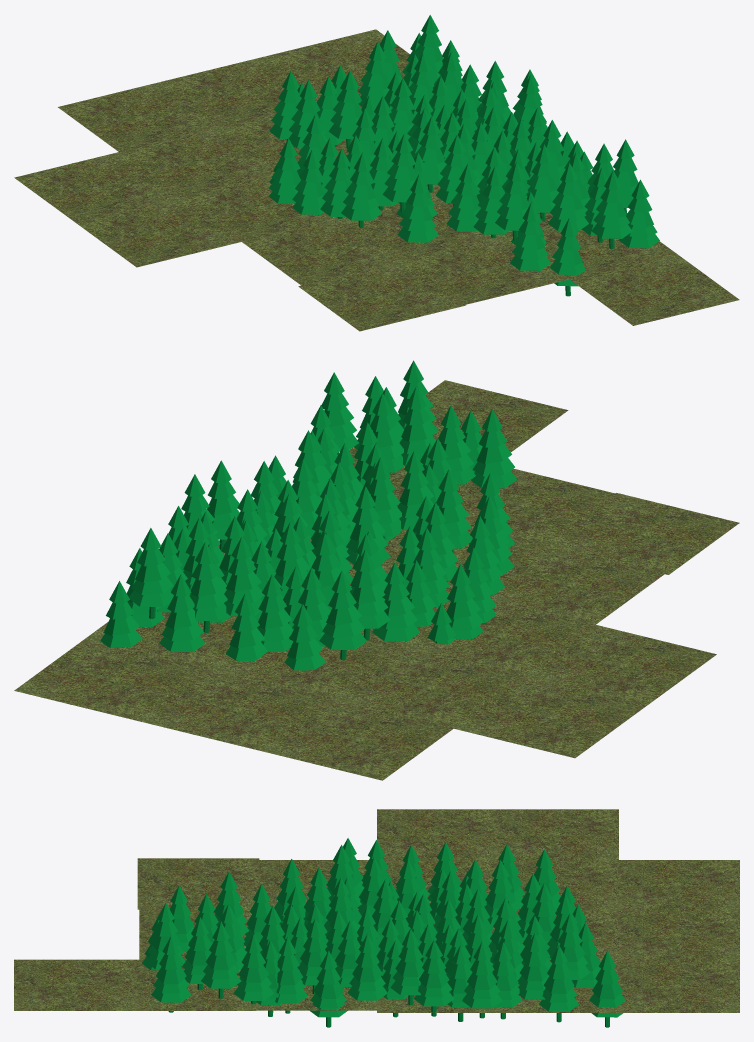
File: BackgroundForest.gltf
3 views of the same model, one above another, from view 1: azimuth 30°, elevation 25°; view 2: azimuth 150°, elevation 25°; view 3: azimuth 270°, elevation 25° (orthographic). The views are drawn at different scales.
Parts seen in each view (by area): view 1: Plane (27), Plane (23), Plane (24), Plane (32), Plane (21), Plane (20), Plane (22), Plane (16), Plane (31), Plane (19), Plane (30), Plane (15) (+45 smaller); view 2: Plane (21), Plane (31), Plane (32), Plane (30), Plane (24), Plane (20), Plane (23), Plane (22), Plane (19), Plane (16), Plane (17), Plane (27) (+54 smaller); view 3: Plane (27), Plane (31), Plane (32), Plane (30), Plane (24), Plane (23), Plane (21), Plane (20), Plane (9), Plane (22), Tree Type1 04 (84), Tree Type1 04 (138) (+67 smaller).
Part boxes in pixels (<box>): Plane (27): <box>572,255,739,325</box>; Plane (23): <box>76,197,242,267</box>; Plane (24): <box>14,152,179,222</box>; Plane (32): <box>58,81,224,151</box>; Plane (21): <box>298,261,465,331</box>; Plane (20): <box>121,126,276,196</box>; Plane (22): <box>240,217,408,285</box>; Plane (16): <box>403,234,569,305</box>; Plane (31): <box>164,55,321,126</box>; Plane (19): <box>180,174,336,240</box>; Plane (30): <box>270,29,409,93</box>; Plane (15): <box>351,193,506,259</box>; Plane (21): <box>547,493,739,574</box>; Plane (31): <box>138,669,331,750</box>; Plane (32): <box>260,699,453,780</box>; Plane (30): <box>14,638,207,720</box>; Plane (24): <box>452,676,645,758</box>; Plane (20): <box>331,647,524,727</box>; Plane (23): <box>525,625,716,706</box>; Plane (22): <box>490,543,664,625</box>; Plane (19): <box>401,599,593,676</box>; Plane (16): <box>457,468,616,545</box>; Plane (17): <box>208,638,400,698</box>; Plane (27): <box>425,380,568,451</box>; Plane (27): <box>14,959,135,1010</box>; Plane (31): <box>618,910,739,961</box>; Plane (32): <box>618,860,739,910</box>; Plane (30): <box>618,961,739,1012</box>; Plane (24): <box>497,809,618,860</box>; Plane (23): <box>377,809,498,860</box>; Plane (21): <box>137,858,259,909</box>; Plane (20): <box>497,860,618,910</box>; Plane (9): <box>134,959,255,1010</box>; Plane (22): <box>258,860,368,909</box>; Tree Type1 04 (84): <box>201,922,241,998</box>; Tree Type1 04 (138): <box>414,940,453,1016</box>.
Bounding box in the file's own units: 293 × 84.71 × 428.
Materials: 2 (1 with a texture image).
